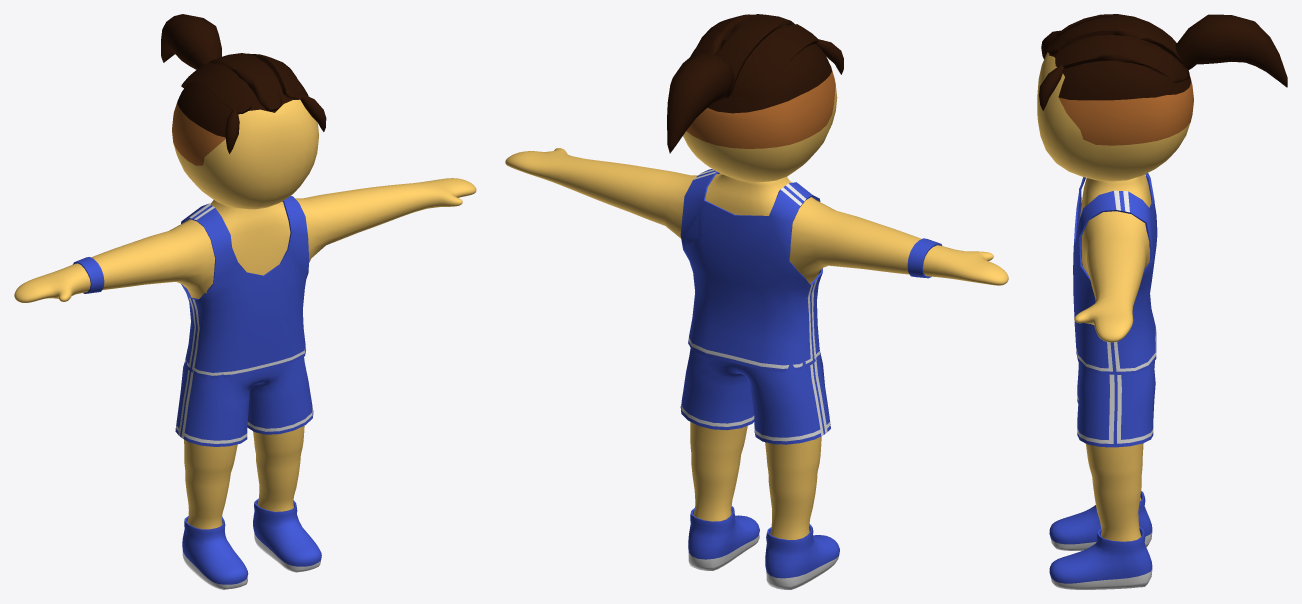
The model's file is Character-1.fbx.
The picture shows the model from 3 angles, left to right: view 1: azimuth 30°, elevation 25°; view 2: azimuth 150°, elevation 25°; view 3: azimuth 270°, elevation 25°; orthographic projection. The views are drawn at different scales.
Parts seen in each view (by area): view 1: basketballer1.007, basketballer1-jersey.004, basketballer1.006, basketballer1.001, basketballer1.008; view 2: basketballer1.007, basketballer1-jersey.004, basketballer1.006, basketballer1.008, basketballer1.001, basketballer1.009; view 3: basketballer1.007, basketballer1-jersey.004, basketballer1.006, basketballer1.001, basketballer1.008.
Boxes of the visible parts, x1=… form: basketballer1.007: x1=14, y1=14, x2=476, y2=529; basketballer1-jersey.004: x1=181, y1=195, x2=309, y2=378; basketballer1.006: x1=175, y1=357, x2=313, y2=446; basketballer1.001: x1=253, y1=498, x2=321, y2=572; basketballer1.008: x1=182, y1=516, x2=248, y2=589; basketballer1.007: x1=505, y1=14, x2=1008, y2=539; basketballer1-jersey.004: x1=680, y1=169, x2=822, y2=372; basketballer1.006: x1=680, y1=348, x2=830, y2=444; basketballer1.008: x1=765, y1=524, x2=839, y2=589; basketballer1.001: x1=688, y1=506, x2=759, y2=570; basketballer1.009: x1=907, y1=238, x2=942, y2=278; basketballer1.007: x1=1037, y1=14, x2=1287, y2=541; basketballer1-jersey.004: x1=1073, y1=173, x2=1157, y2=374; basketballer1.006: x1=1077, y1=361, x2=1155, y2=447; basketballer1.001: x1=1049, y1=526, x2=1152, y2=589; basketballer1.008: x1=1049, y1=491, x2=1152, y2=550.
Bounding box in the file's own units: 5.98 × 6.26 × 2.61.
